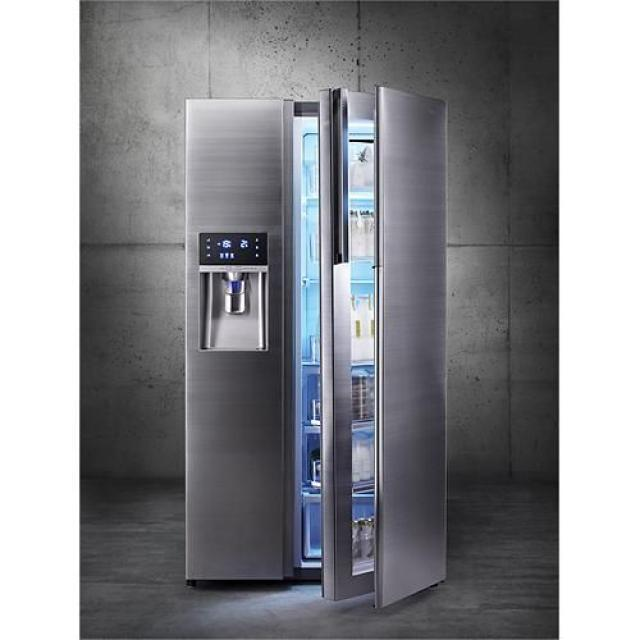obstacle: (183, 84, 448, 608)
